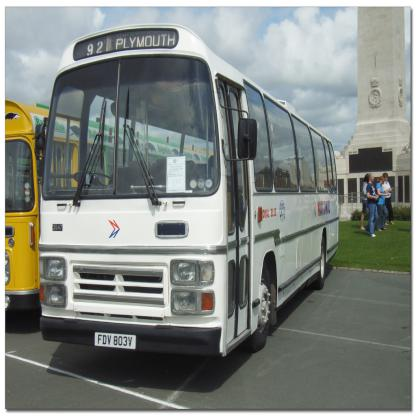Bus: (46, 23, 338, 356), (5, 100, 214, 312)
